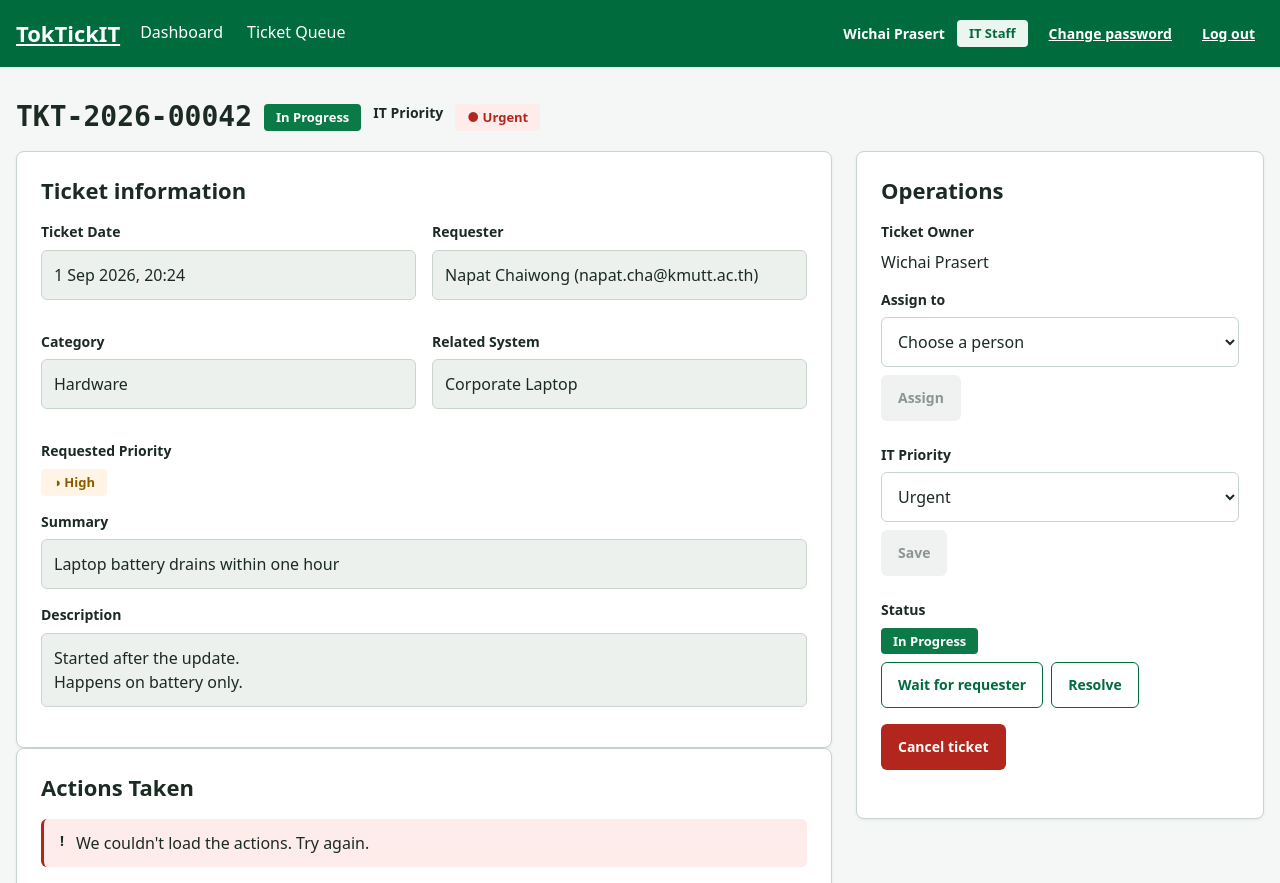
UI-28 (AC-35, AC-37) - owner controls › re-fetches the detail after a successful assign, sending the chosen ownerId
expect the element with test id "operations-card" is shown: met, box [856,151,1264,819]
Select "Kittipong Saelim" in the dropdown with test id "field-assignee". click: (1060, 342)
box: [881,317,1239,367]
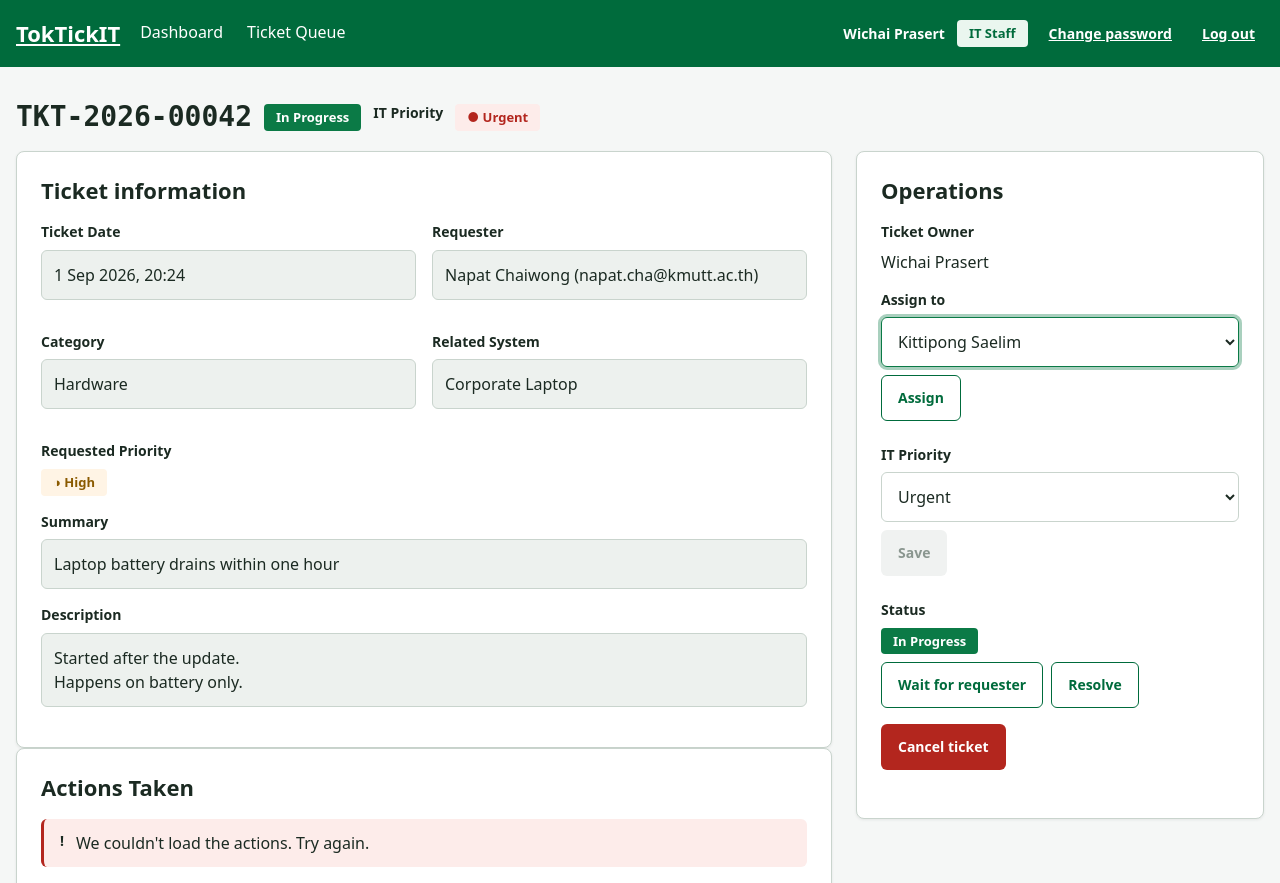
Click the button with test id "btn-assign". click: (921, 398)
box: [881,375,961,421]
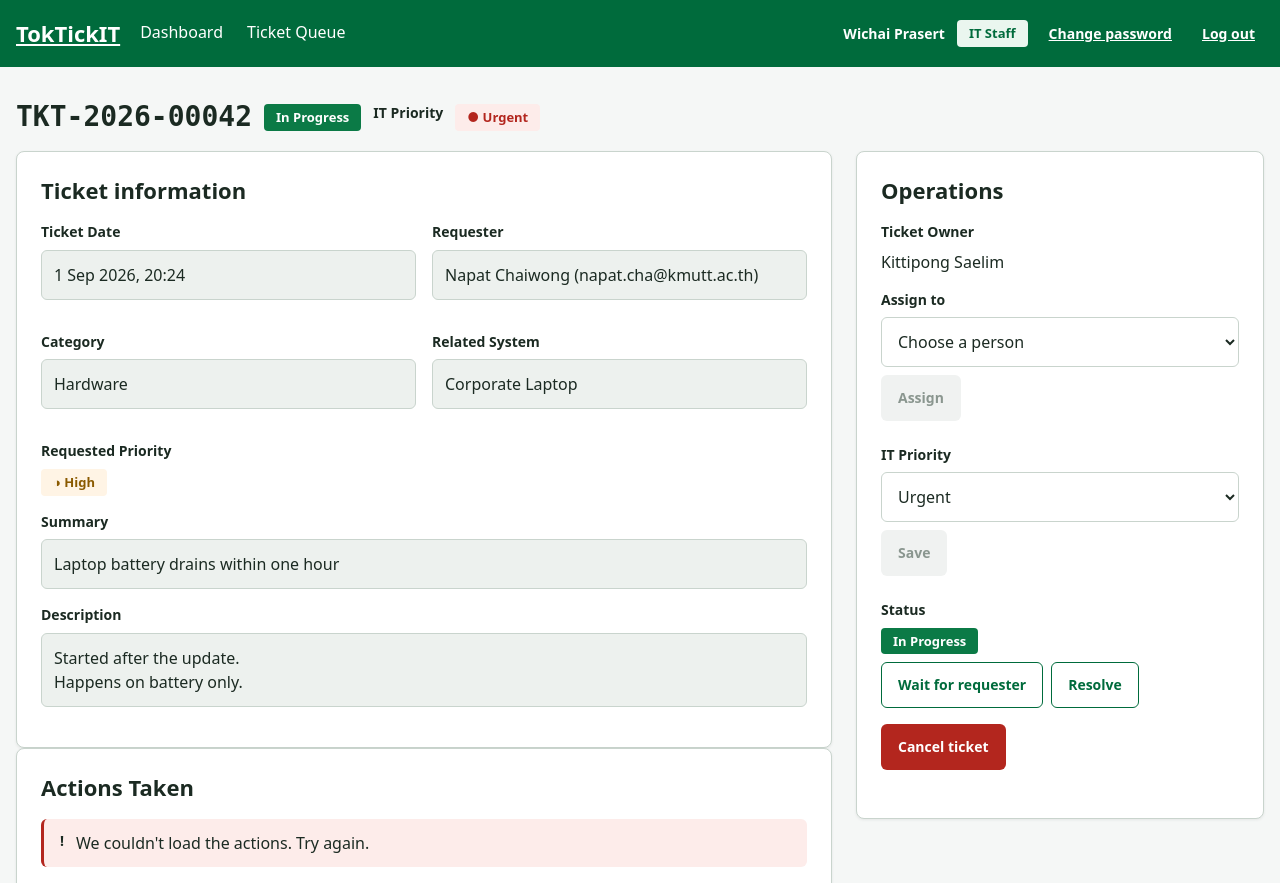
expect the text with test id "ticket-owner" reads "Kittipong Saelim": met, box [881,251,1004,273]
